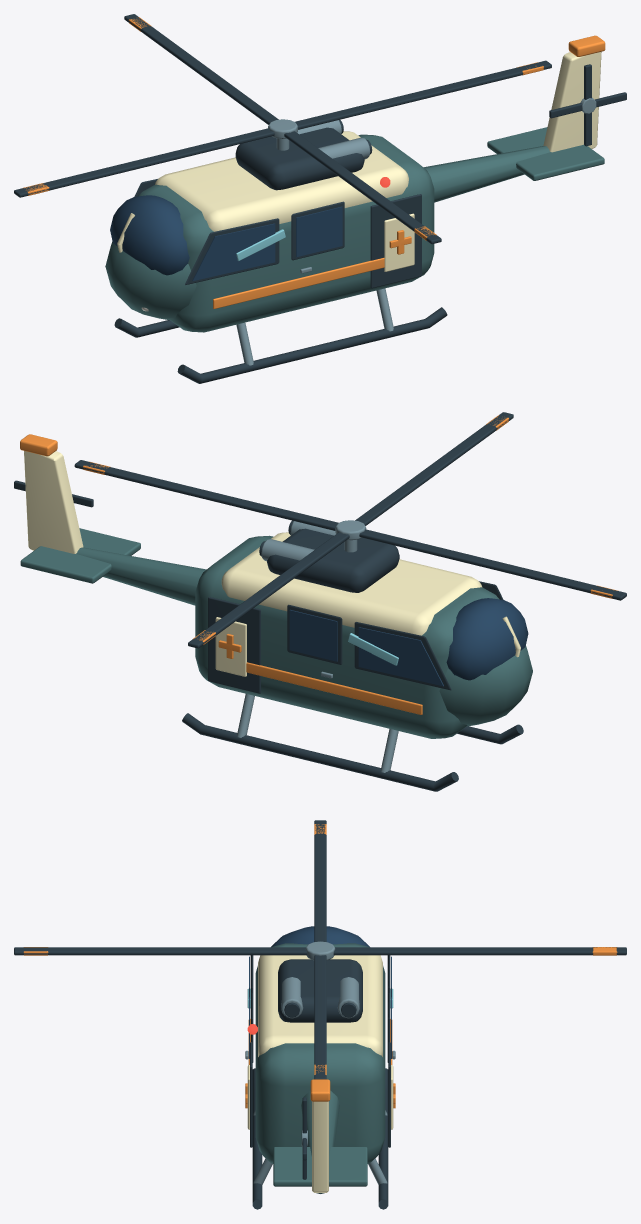
Rendered from rescue_craft-DmnVue-I.glb.
The picture shows the model from 3 angles, top to bottom: view 1: azimuth 30°, elevation 25°; view 2: azimuth 150°, elevation 25°; view 3: azimuth 270°, elevation 25°; orthographic projection. The views are drawn at different scales.
Visible parts, largest first — view 1: rescue_body, rescue_rotor, rescue_tail_rotor; view 2: rescue_body, rescue_rotor; view 3: rescue_body, rescue_rotor.
Boxes of the visible parts, left/top/right/bottom form: rescue_body: left=105, top=35, right=605, bottom=383; rescue_rotor: left=14, top=14, right=551, bottom=244; rescue_tail_rotor: left=549, top=64, right=626, bottom=146; rescue_body: left=20, top=434, right=532, bottom=791; rescue_rotor: left=74, top=412, right=626, bottom=648; rescue_body: left=245, top=926, right=395, bottom=1209; rescue_rotor: left=14, top=820, right=626, bottom=1079.
Size of the model in its own units: 8.81 by 3.03 by 7.8.
